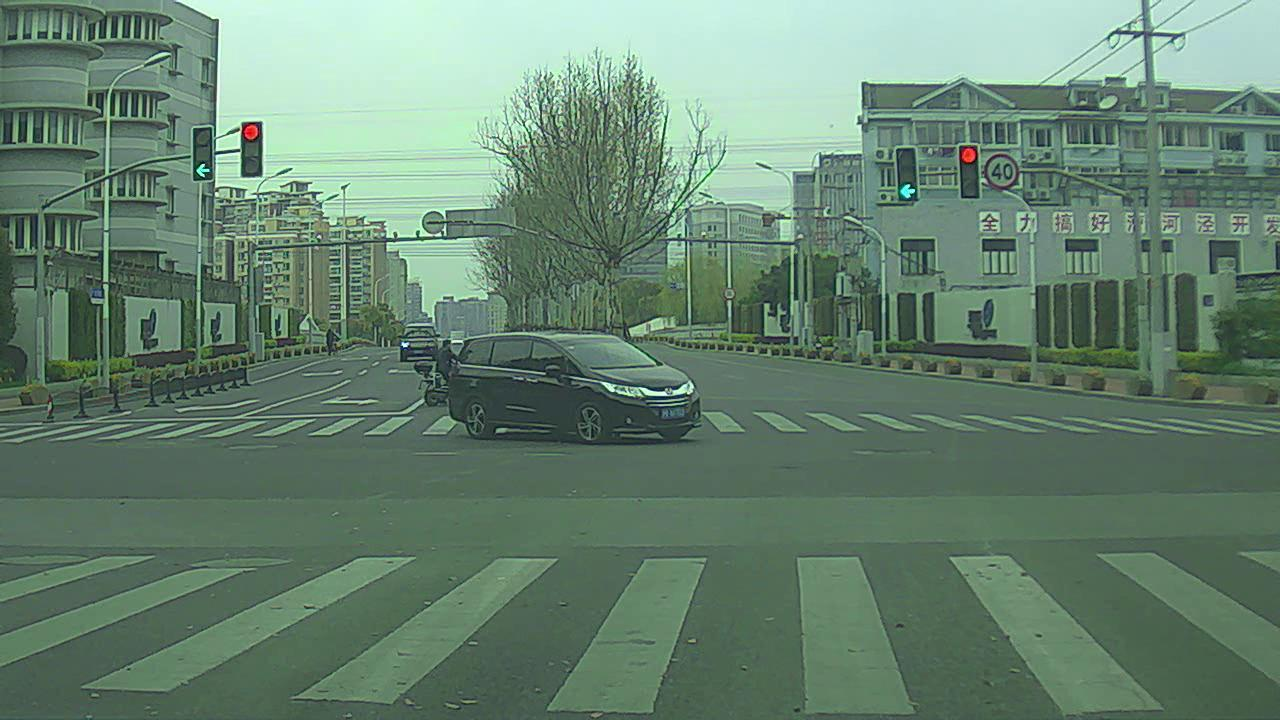traffic_light: (188, 122, 219, 185), (239, 120, 271, 176), (892, 145, 918, 207), (959, 147, 980, 201)
